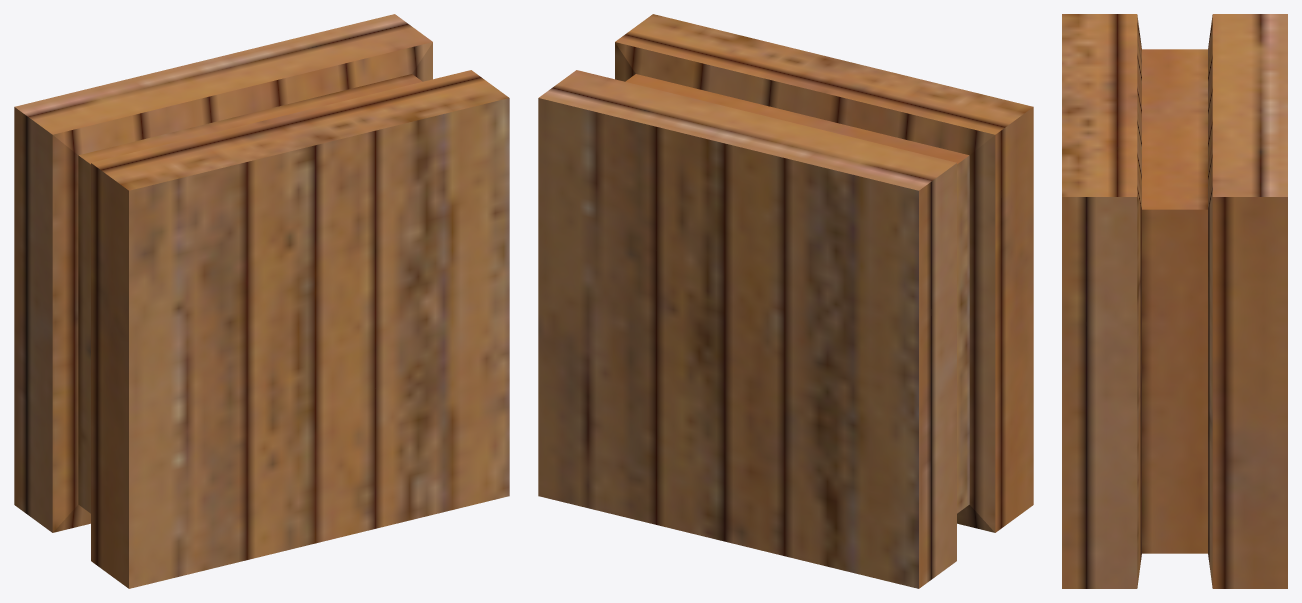
The model's file is create-3.fbx.
The picture shows the model from 3 angles, left to right: view 1: azimuth 30°, elevation 25°; view 2: azimuth 150°, elevation 25°; view 3: azimuth 270°, elevation 25°; orthographic projection.
Visible parts, largest first — view 1: Cube.054; view 2: Cube.054; view 3: Cube.054.
Part boxes in pixels (left/top/right/bottom): Cube.054: left=14, top=14, right=509, bottom=588; Cube.054: left=538, top=14, right=1033, bottom=588; Cube.054: left=1062, top=14, right=1287, bottom=588.
Bounding box in the file's own units: 90.48 × 90.48 × 47.23.
